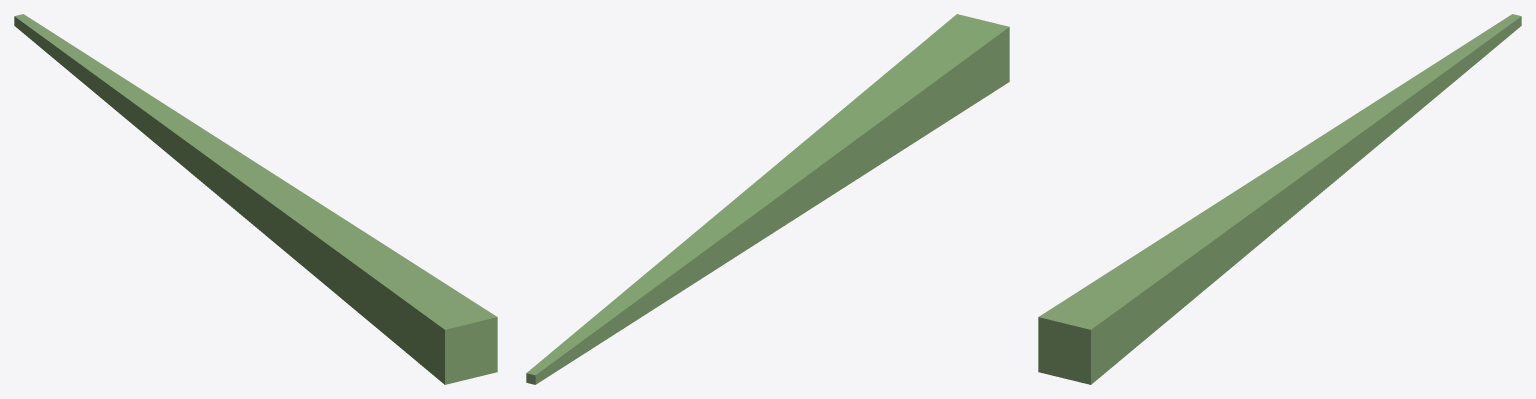
Rendered from Grass_PacificLake.fbx.
The picture shows the model from 3 angles, left to right: view 1: azimuth 30°, elevation 25°; view 2: azimuth 150°, elevation 25°; view 3: azimuth 330°, elevation 25°; orthographic projection.
Visible parts, largest first — view 1: Grass_PacificLake; view 2: Grass_PacificLake; view 3: Grass_PacificLake.
Part boxes in pixels (x1,y1,x2,y2): Grass_PacificLake: (14,14,497,384); Grass_PacificLake: (526,14,1009,384); Grass_PacificLake: (1038,14,1521,384).
Size of the model in its own units: 57.09 by 57.09 by 850.
